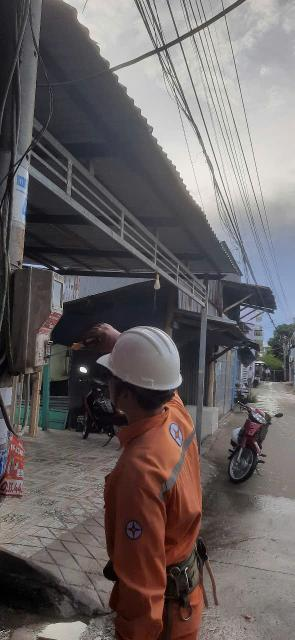gloves: (79, 316, 126, 357)
harness: (125, 552, 218, 598)
helmet: (89, 307, 194, 404)
